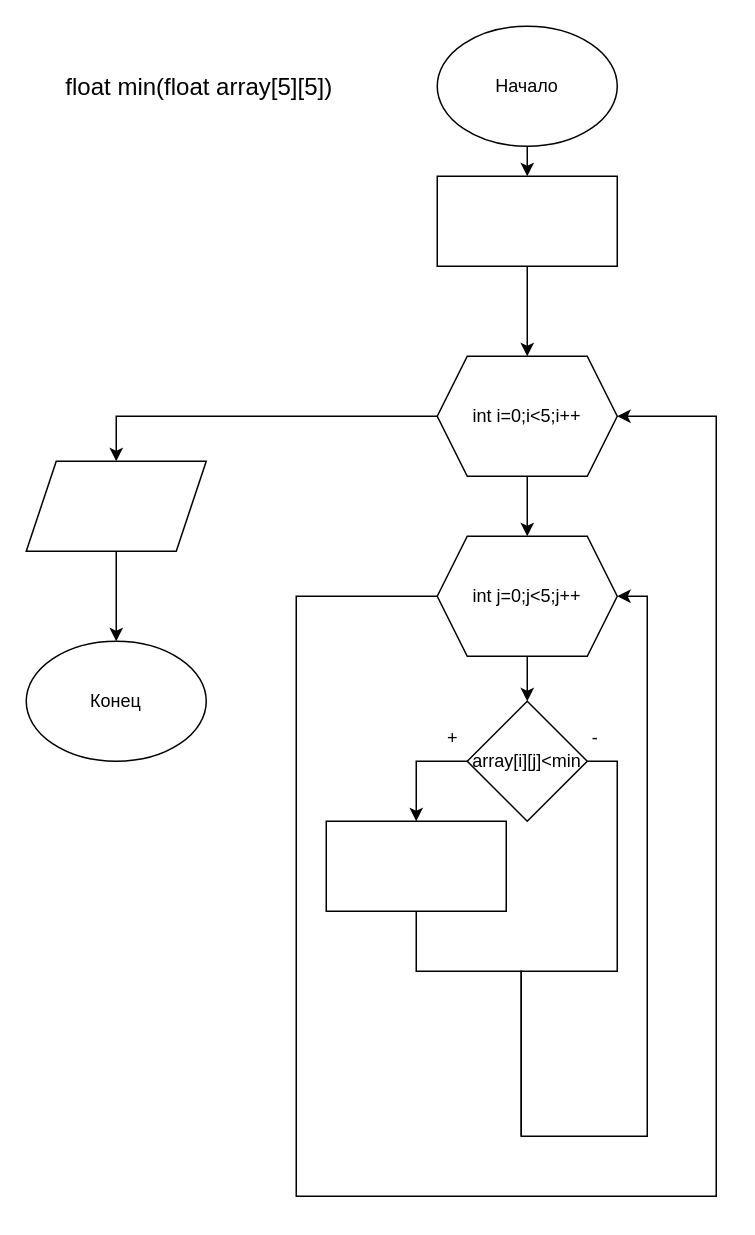
This 755x1235 diagram has some shape labels left out. The shapes that lost their labels are listed below. From the top down, each one's centre as x and y in pixels, then its label:
pixel 526 220: min=array[0][0]
pixel 115 505: return min
pixel 415 865: min = array[j][j];
